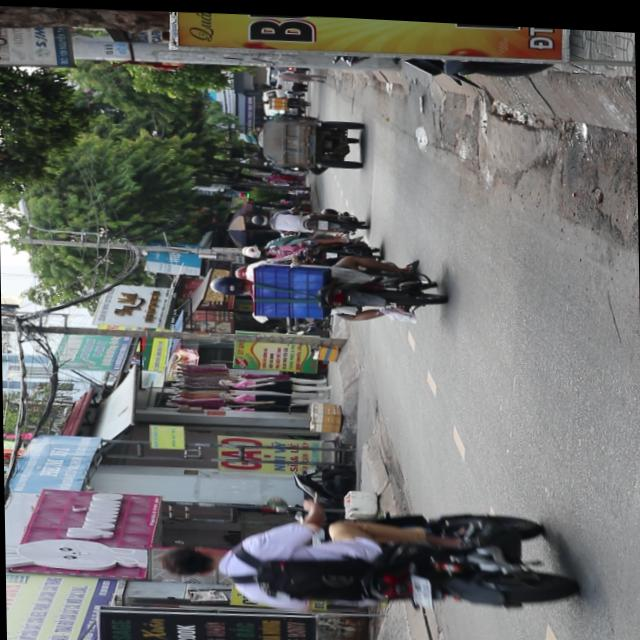helmet: (208, 272, 246, 295)
licenseplate: (146, 487, 584, 623), (204, 244, 443, 327)
motorcyclist: (153, 541, 224, 579)
